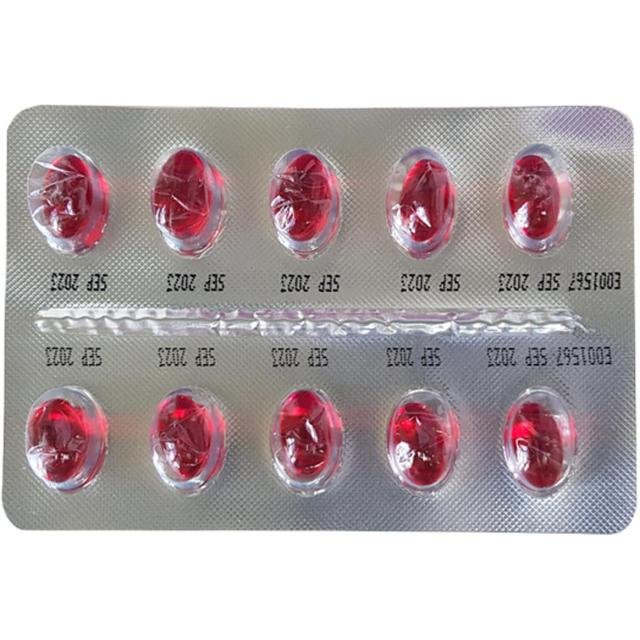blister: (1, 101, 638, 545)
